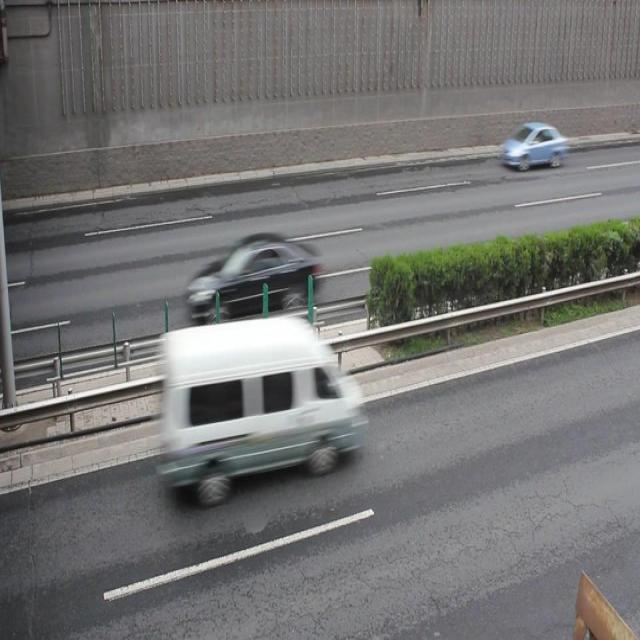car: (189, 230, 321, 314), (501, 121, 565, 171)
truck: (155, 318, 362, 497)
